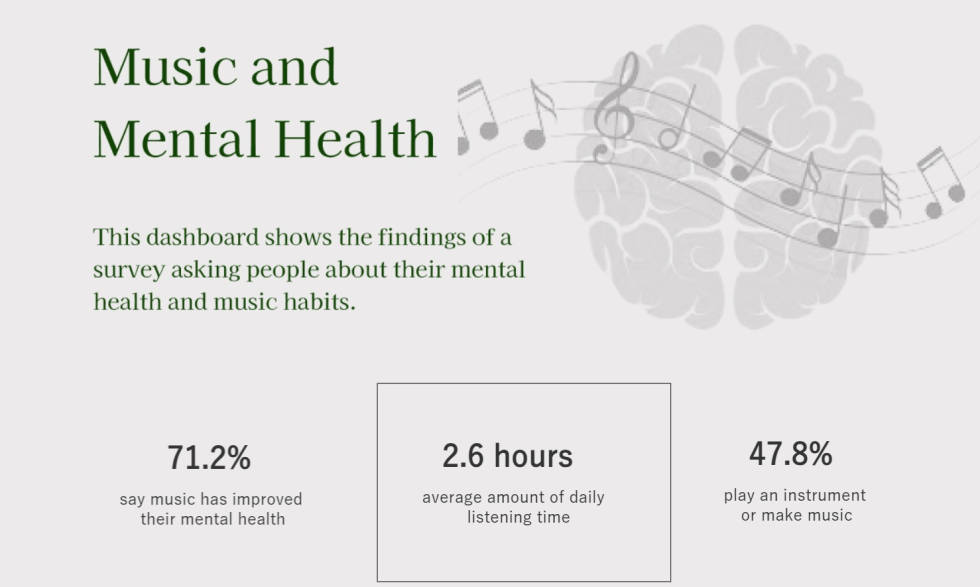

This screenshot's page, from the dashboard's own definition file:
{"tool":"powerbi","page":{"name":"Cover Page","canvas":[1280,720],"ordinal":0},"visuals":[{"type":"card","fields":{"Values":["Sum(mxmh_survey_cleaned.ocd)"]},"box":[763,0,58,40],"z":0}]}

Visuals, with their boxes on the page's 1280x720 design canvas (x1, y1, x2, y2). These are canvas units, not pixel positions in the 980x587 screenshot, which may show the page scaled, cropped or inside an application window:
card - Sum(mxmh_survey_cleaned.ocd): {"left": 763, "top": 0, "right": 821, "bottom": 40}
